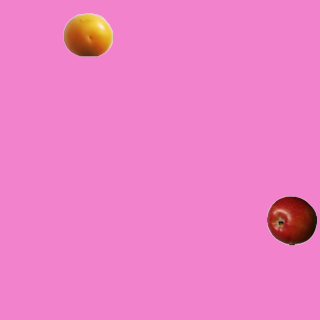Apple Braeburn: (266, 195, 316, 245)
Cherry Wax Yellow: (62, 9, 112, 59)
